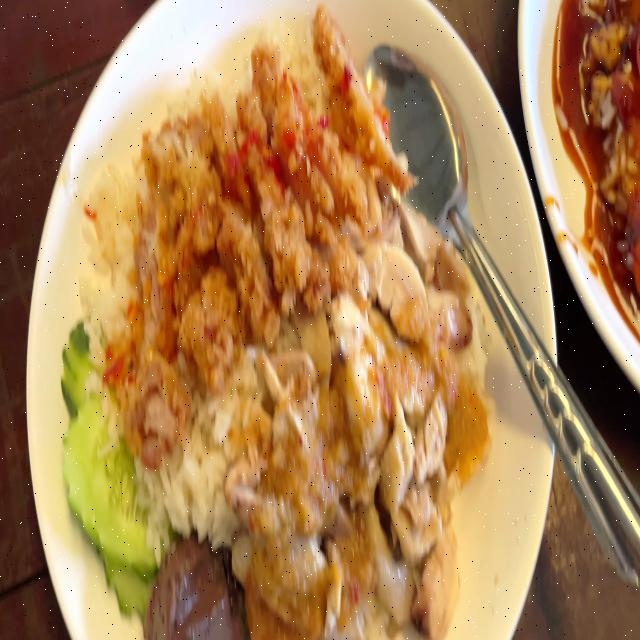boiled_chicken: (244, 203, 476, 638)
boiled_chicken_blood_jelly: (148, 532, 242, 640)
chicken_rice: (61, 1, 496, 640)
cucumber: (60, 318, 156, 622)
fried_chicken: (115, 1, 410, 449)
red_pork_and_crispy_pork: (583, 0, 640, 294)
